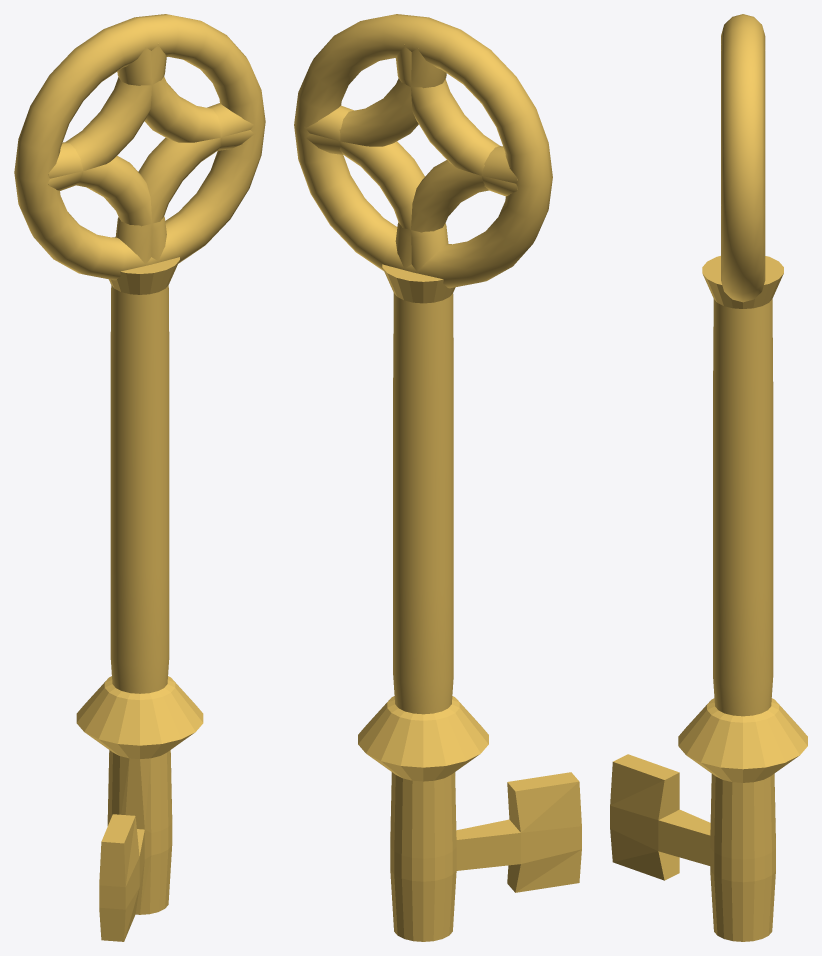
File: KEY1 1.fbx
3 renders of one model, left to right at view 1: azimuth 30°, elevation 25°; view 2: azimuth 150°, elevation 25°; view 3: azimuth 270°, elevation 25°, orthographic. The views are drawn at different scales.
Visible parts, largest first — view 1: 2LLAVE; view 2: 2LLAVE; view 3: 2LLAVE.
Boxes of the visible parts, left/top/right/bottom form: 2LLAVE: left=14, top=14, right=265, bottom=941; 2LLAVE: left=294, top=14, right=581, bottom=941; 2LLAVE: left=610, top=14, right=807, bottom=941.
Bounding box in the file's own units: 18.14 × 62.42 × 12.4.
